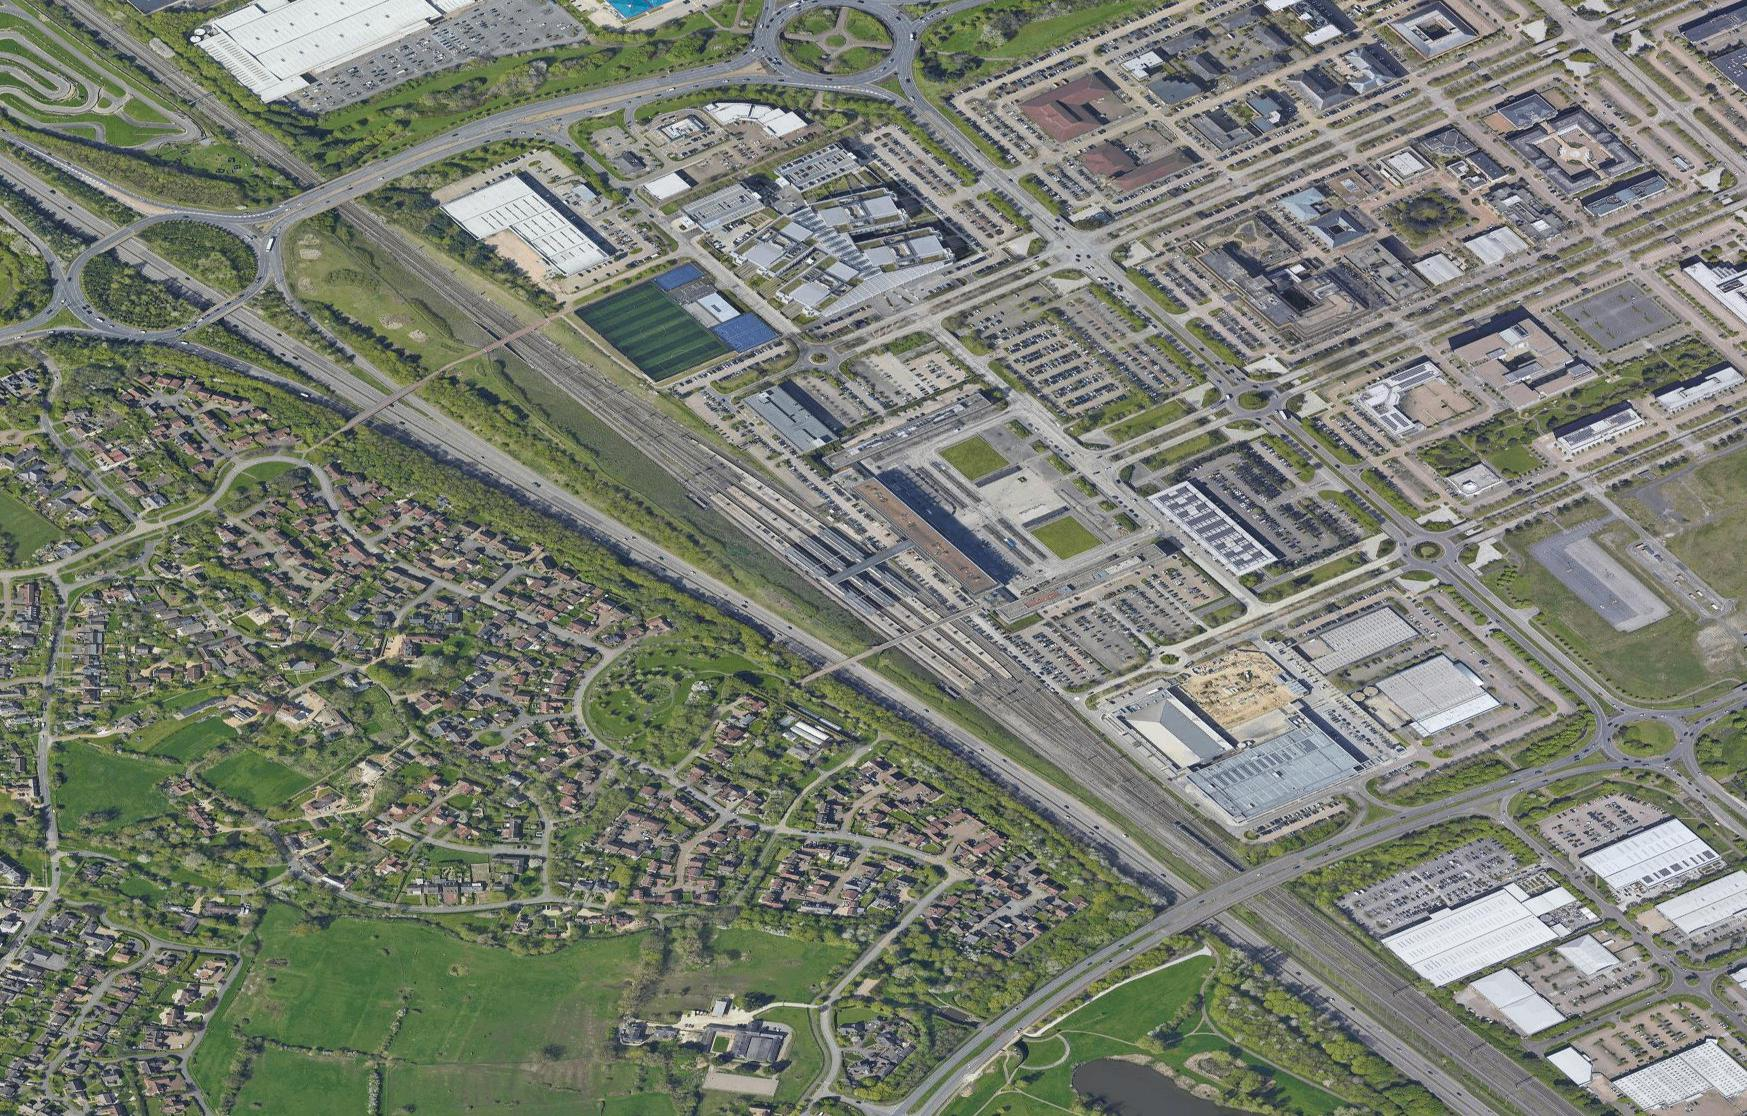industrial: (1104, 533, 1499, 814), (1403, 822, 1747, 1101)
motorway: (1, 132, 353, 380), (1215, 919, 1504, 1116), (904, 919, 1177, 1116), (345, 378, 598, 508), (1215, 789, 1463, 919), (574, 18, 809, 124), (348, 85, 573, 195), (1463, 703, 1697, 808), (1033, 789, 1219, 916), (735, 603, 882, 690), (587, 513, 733, 601), (881, 693, 1028, 781)
train_station: (621, 382, 1006, 699)
